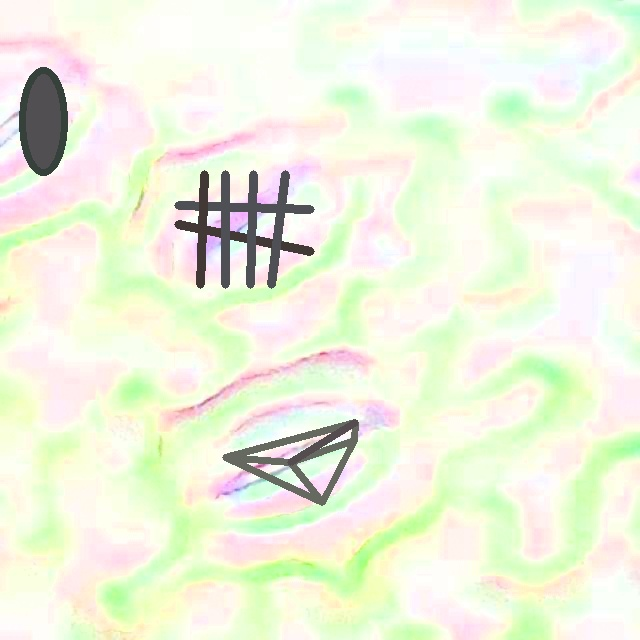open: (175, 170, 314, 287), (222, 419, 357, 505), (18, 67, 68, 175)
